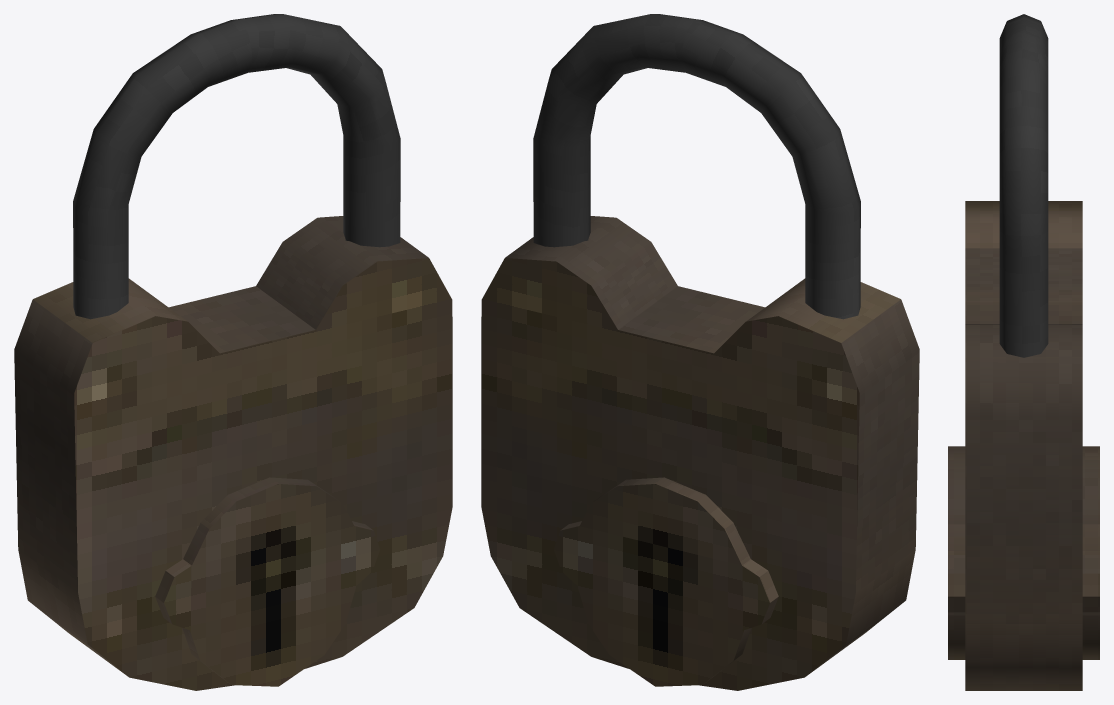
File: padlock_1.dae
The picture shows the model from 3 angles, left to right: view 1: azimuth 30°, elevation 25°; view 2: azimuth 150°, elevation 25°; view 3: azimuth 270°, elevation 25°; orthographic projection. The views are drawn at different scales.
Visible parts, largest first — view 1: padlock_1, padlock_1_shackle; view 2: padlock_1, padlock_1_shackle; view 3: padlock_1, padlock_1_shackle.
Boxes of the visible parts, left/top/right/bottom form: padlock_1: left=14, top=216, right=452, bottom=690; padlock_1_shackle: left=73, top=14, right=400, bottom=319; padlock_1: left=481, top=216, right=919, bottom=690; padlock_1_shackle: left=533, top=14, right=860, bottom=319; padlock_1: left=948, top=201, right=1099, bottom=690; padlock_1_shackle: left=999, top=14, right=1048, bottom=357.
Size of the model in its own units: 0.062 by 0.022 by 0.0999.
Materials: 1 (1 with a texture image).
